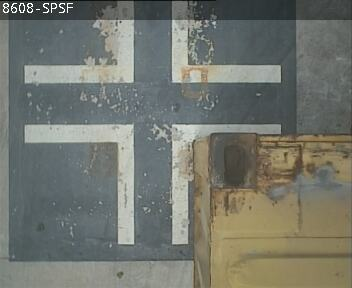groundmarker_1: (24, 122, 281, 243), (22, 1, 281, 82)
